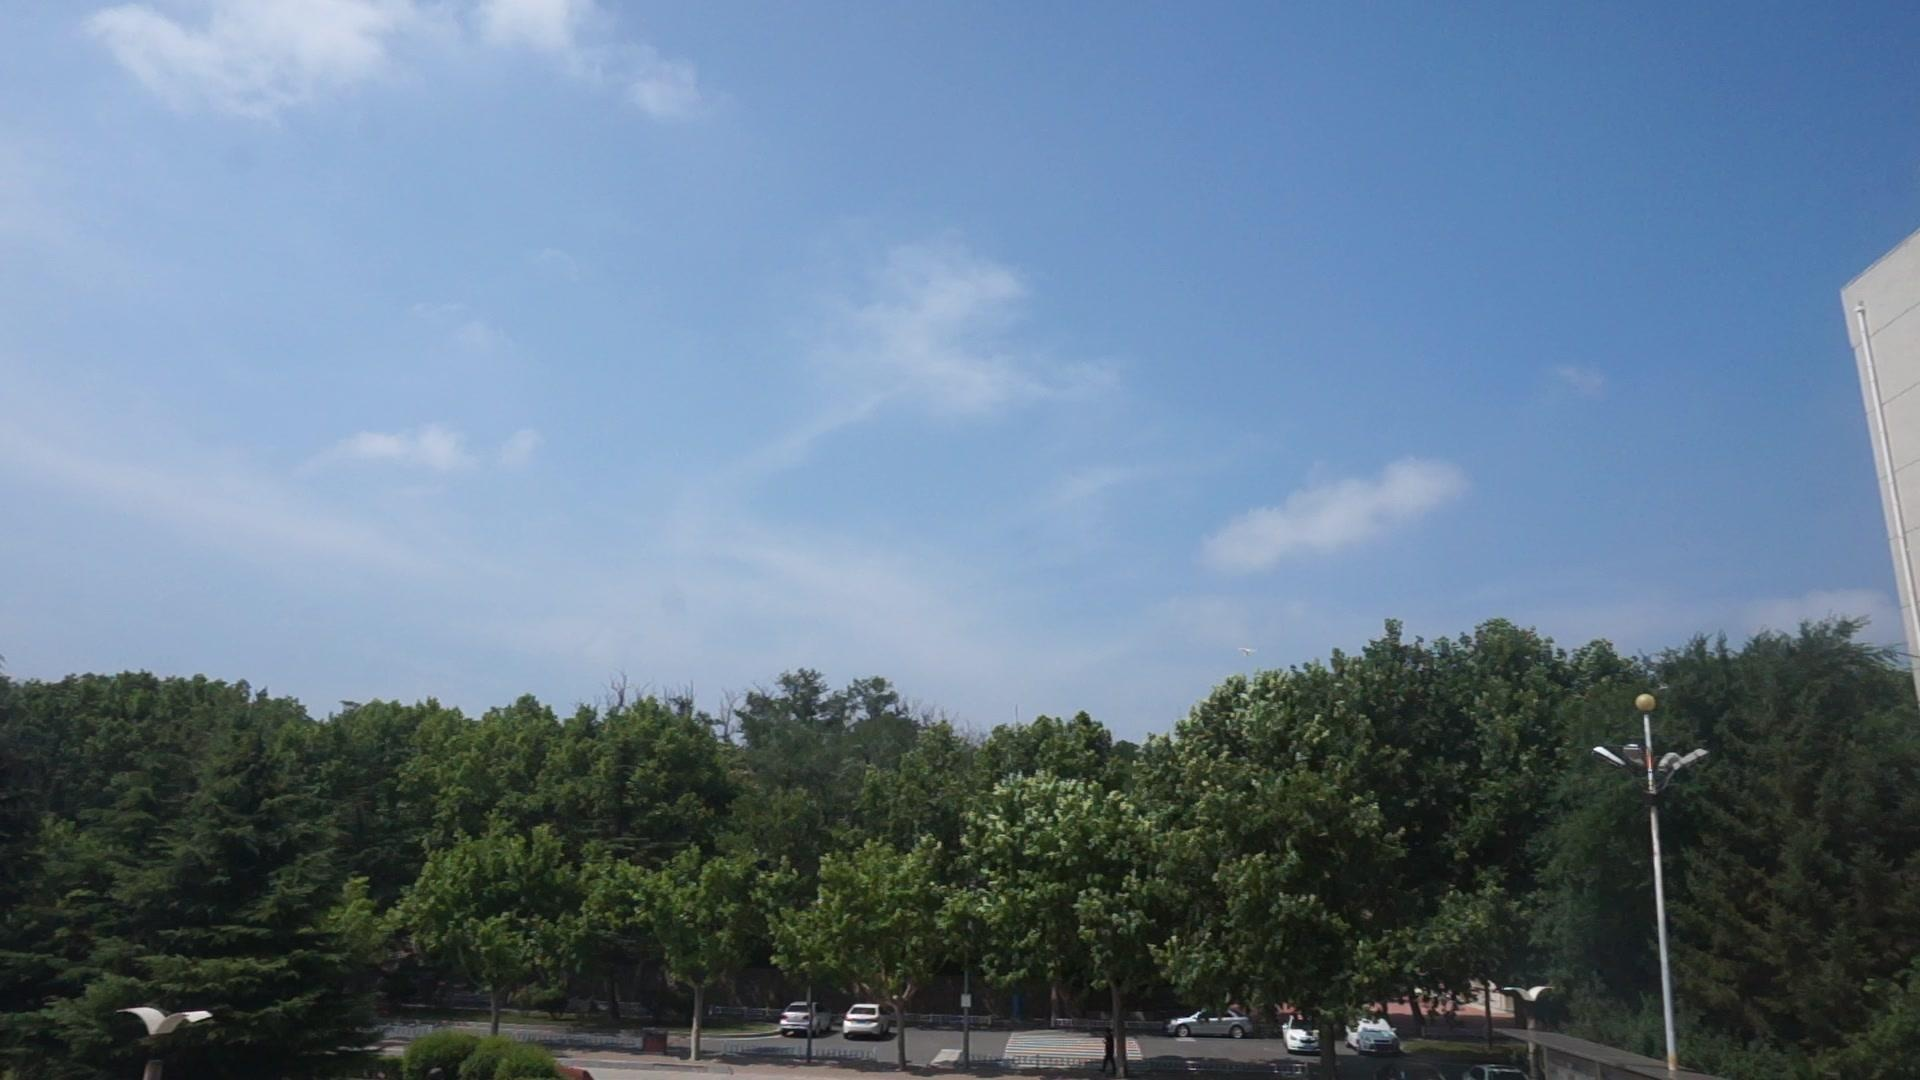UAV: (1238, 649, 1259, 657)
